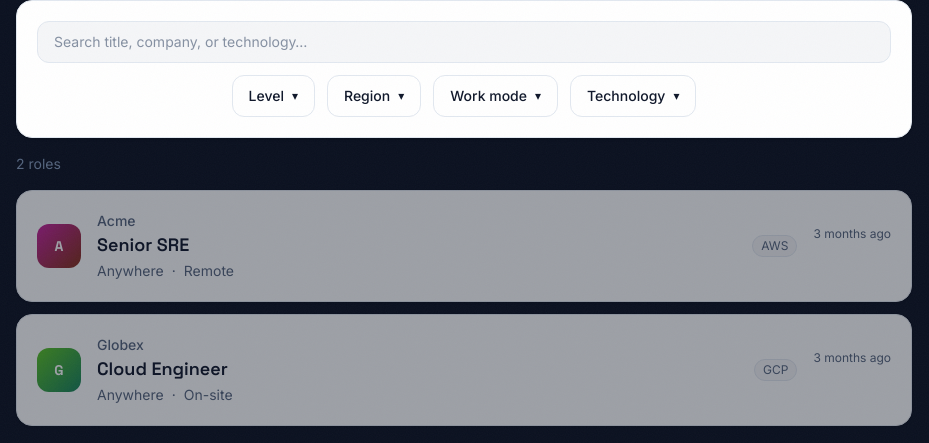
Scenario: JobBoard › work-mode dropdown narrows the list and updates the URL
Click the button "Work mode ▾" at (496, 96), box x1=433 y1=75 x2=558 y2=117
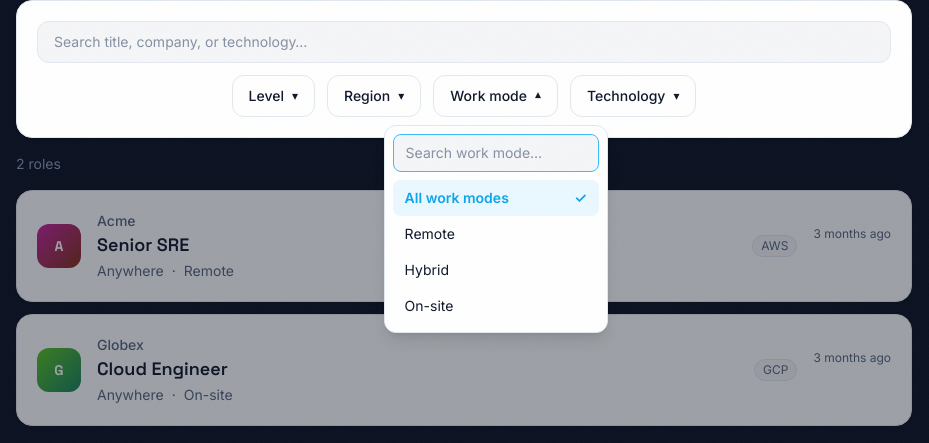
Click the option "On-site" at (496, 306), box x1=393 y1=288 x2=599 y2=324
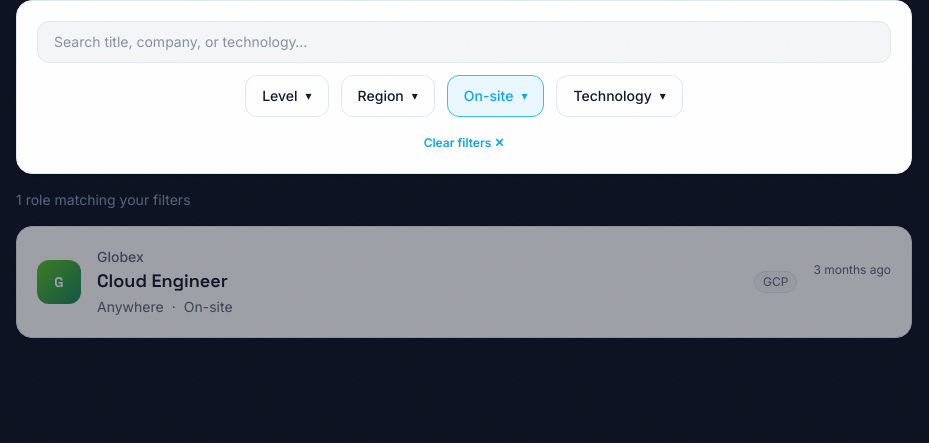
Check: the heading "Cloud Engineer" is shown, box x1=97 y1=267 x2=228 y2=295
Check: the link "Senior SRE" is gone
